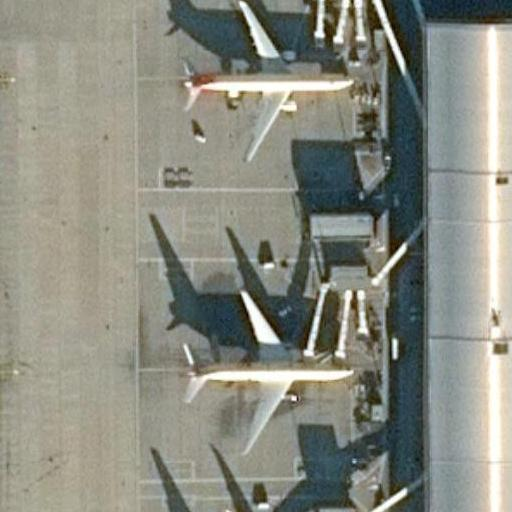Aircraft: (173, 283, 354, 451), (173, 289, 355, 453), (176, 0, 356, 163), (174, 0, 355, 157), (170, 505, 337, 512), (168, 509, 332, 512)
